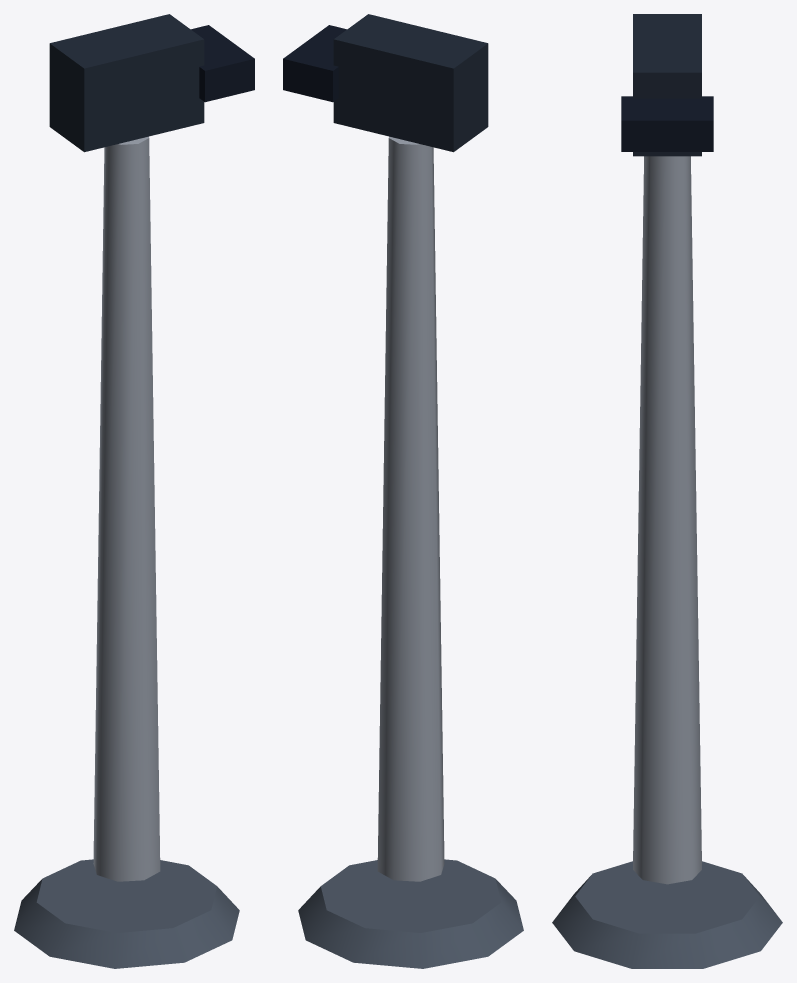
Rendered from parametric-source.glb.
The picture shows the model from 3 angles, left to right: view 1: azimuth 30°, elevation 25°; view 2: azimuth 150°, elevation 25°; view 3: azimuth 270°, elevation 25°; orthographic projection.
Visible parts, largest first — view 1: openclinxr.equipment.pulse_oximeter_equipment.stand, openclinxr.equipment.pulse_oximeter_equipment.base, openclinxr.equipment.pulse_oximeter_equipment.body, openclinxr.equipment.pulse_oximeter_equipment.finger_clip; view 2: openclinxr.equipment.pulse_oximeter_equipment.stand, openclinxr.equipment.pulse_oximeter_equipment.base, openclinxr.equipment.pulse_oximeter_equipment.body, openclinxr.equipment.pulse_oximeter_equipment.finger_clip; view 3: openclinxr.equipment.pulse_oximeter_equipment.stand, openclinxr.equipment.pulse_oximeter_equipment.base, openclinxr.equipment.pulse_oximeter_equipment.body, openclinxr.equipment.pulse_oximeter_equipment.finger_clip.
Part boxes in pixels (<box>): openclinxr.equipment.pulse_oximeter_equipment.stand: <box>93,136,160,881</box>; openclinxr.equipment.pulse_oximeter_equipment.base: <box>14,859,239,968</box>; openclinxr.equipment.pulse_oximeter_equipment.body: <box>49,14,204,152</box>; openclinxr.equipment.pulse_oximeter_equipment.finger_clip: <box>191,25,254,102</box>; openclinxr.equipment.pulse_oximeter_equipment.stand: <box>377,136,444,881</box>; openclinxr.equipment.pulse_oximeter_equipment.base: <box>298,859,523,968</box>; openclinxr.equipment.pulse_oximeter_equipment.body: <box>333,14,488,152</box>; openclinxr.equipment.pulse_oximeter_equipment.finger_clip: <box>283,25,346,102</box>; openclinxr.equipment.pulse_oximeter_equipment.stand: <box>633,156,701,884</box>; openclinxr.equipment.pulse_oximeter_equipment.base: <box>552,861,782,968</box>; openclinxr.equipment.pulse_oximeter_equipment.body: <box>633,14,701,156</box>; openclinxr.equipment.pulse_oximeter_equipment.finger_clip: <box>621,96,713,151</box>.
Bounding box in the file's own units: 0.2001 × 0.8405 × 0.2.
